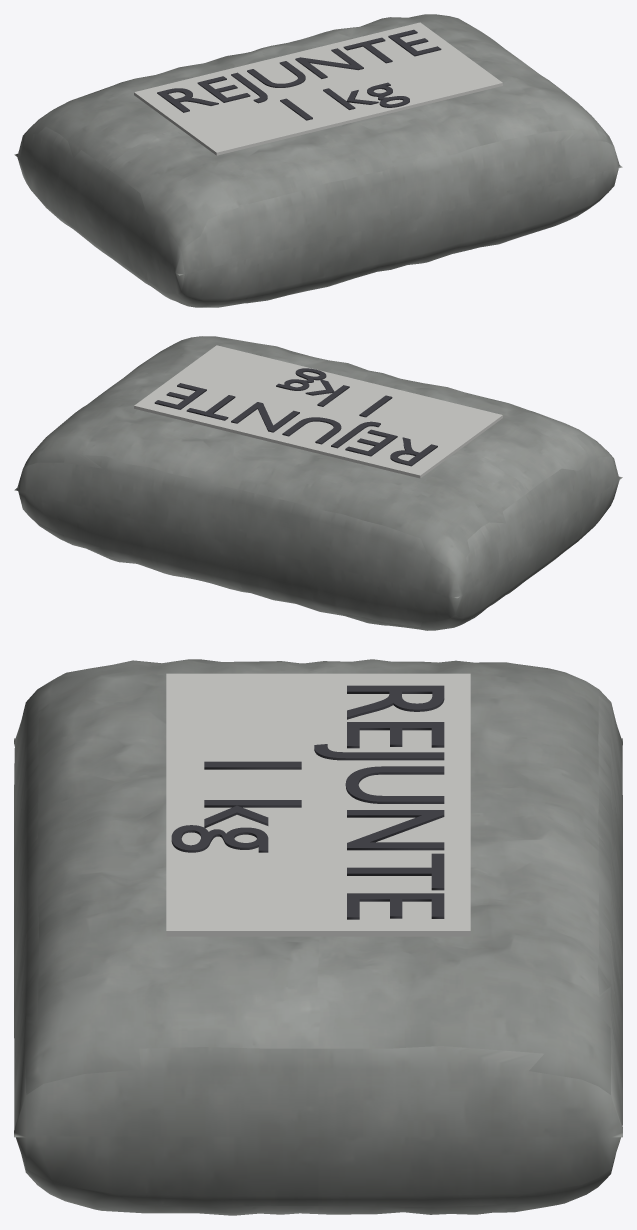
Rendered from REV-COL-004.glb.
The picture shows the model from 3 angles, top to bottom: view 1: azimuth 30°, elevation 25°; view 2: azimuth 150°, elevation 25°; view 3: azimuth 270°, elevation 25°; orthographic projection. The views are drawn at different scales.
Visible parts, largest first — view 1: REV-COL-004_saco, REV-COL-004_faixa, REV-COL-004_texto; view 2: REV-COL-004_saco, REV-COL-004_faixa, REV-COL-004_texto; view 3: REV-COL-004_saco, REV-COL-004_faixa, REV-COL-004_texto.
Boxes of the visible parts, x1=… form: REV-COL-004_saco: x1=14, y1=14, x2=622, y2=307; REV-COL-004_faixa: x1=134, y1=22, x2=502, y2=155; REV-COL-004_texto: x1=157, y1=29, x2=441, y2=120; REV-COL-004_saco: x1=14, y1=336, x2=622, y2=630; REV-COL-004_faixa: x1=134, y1=345, x2=502, y2=478; REV-COL-004_texto: x1=154, y1=368, x2=437, y2=466; REV-COL-004_saco: x1=14, y1=659, x2=622, y2=1215; REV-COL-004_faixa: x1=166, y1=673, x2=470, y2=936; REV-COL-004_texto: x1=171, y1=685, x2=444, y2=919.
Size of the model in its own units: 0.186 by 0.0583 by 0.12.
Materials: 3 (1 with a texture image).
